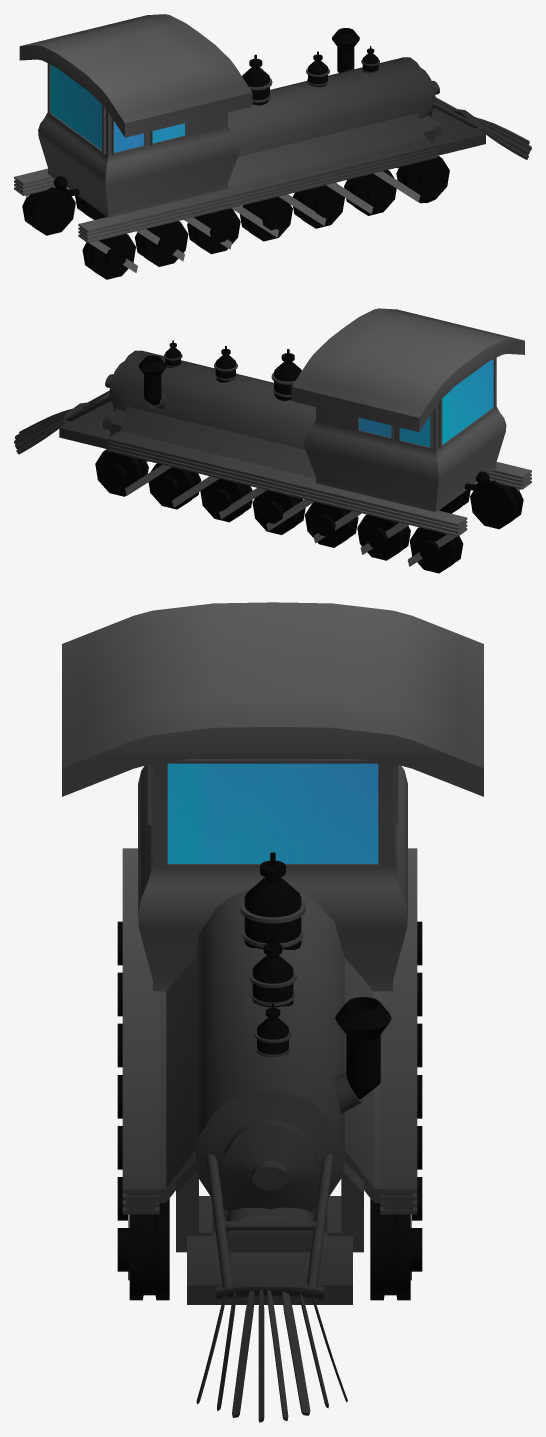
Rendered from Train_1.fbx.
3 views of the same model, one above another, from view 1: azimuth 30°, elevation 25°; view 2: azimuth 150°, elevation 25°; view 3: azimuth 270°, elevation 25° (orthographic). The views are drawn at different scales.
Parts seen in each view (by area): view 1: Train_1; view 2: Train_1; view 3: Train_1.
Part boxes in pixels (x1,y1,x2,y2): Train_1: [14, 14, 531, 279]; Train_1: [14, 308, 531, 573]; Train_1: [62, 602, 483, 1422].
Size of the model in its own units: 1030 by 393 by 395.
Materials: 1 (1 with a texture image).
